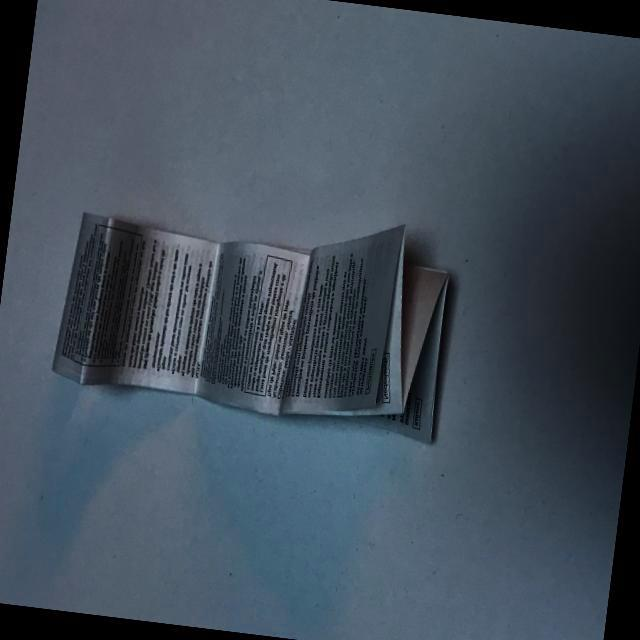paper: (20, 151, 502, 481)
